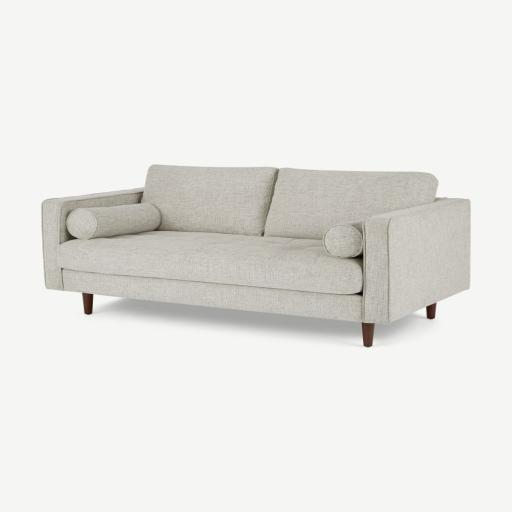back_cushion: (142, 165, 437, 239)
base: (64, 270, 362, 322)
left_arm: (363, 198, 469, 323)
legs: (363, 323, 374, 347), (82, 293, 93, 314), (426, 303, 436, 319)
right_arm: (42, 189, 143, 290)
seat_cushion: (58, 231, 363, 295)
two-seater: (0, 0, 511, 512)
